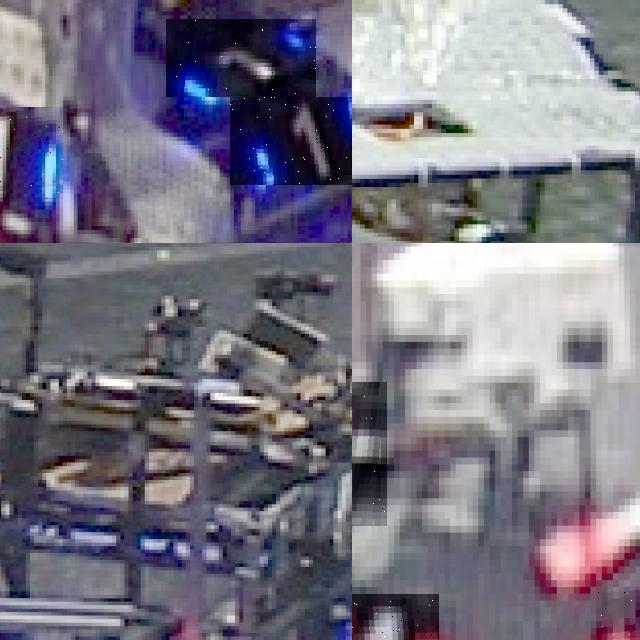B1: (166, 19, 316, 97), (230, 96, 352, 185), (0, 106, 63, 199)
R4: (352, 382, 388, 525), (352, 594, 439, 640)
